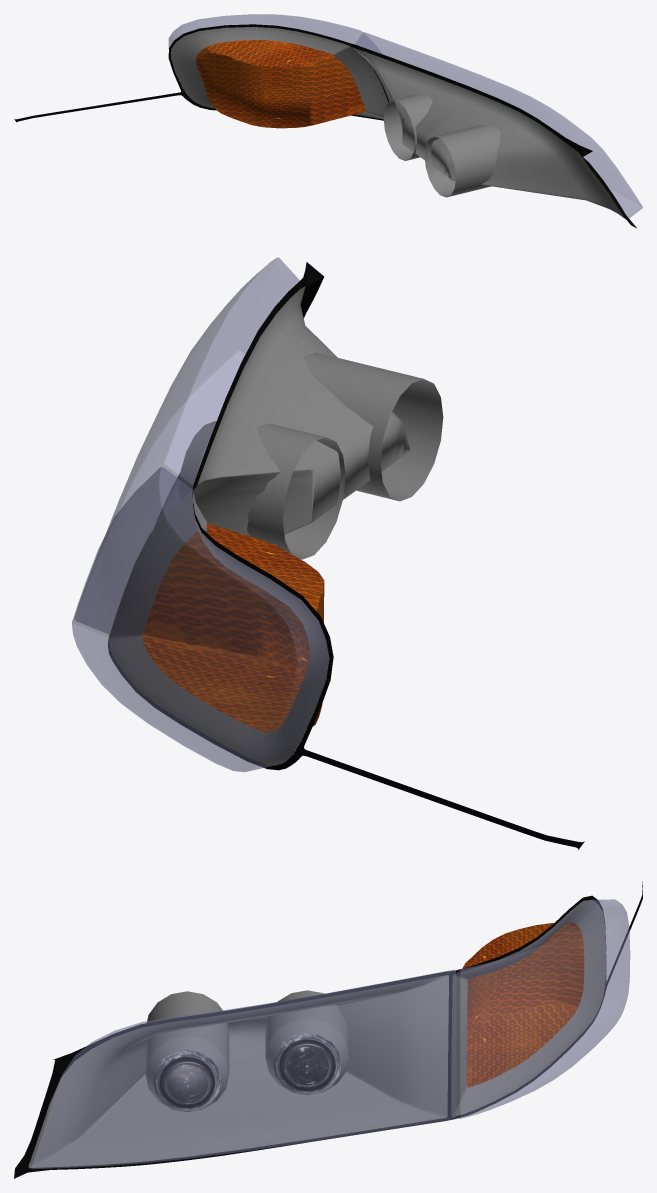
The picture shows the model from 3 angles, top to bottom: view 1: azimuth 30°, elevation 25°; view 2: azimuth 150°, elevation 25°; view 3: azimuth 270°, elevation 25°; orthographic projection. The views are drawn at different scales.
Parts seen in each view (by area): view 1: H124_061B_L_H124_061B_L_4_DaS, H124_061B_L_1_N_H124_061B_L, H124_061B_L_H124_061B_L_7_DTaSI, H124_061B_L_H124_061B_L_7_D, H124_061B_L_H124_061B_L_6_DTaSI; view 2: H124_061B_L_H124_061B_L_4_DaS, H124_061B_L_H124_061B_L_6_DTaSI, H124_061B_L_1_N_H124_061B_L, H124_061B_L_H124_061B_L_7_DTaSI, H124_061B_L_H124_061B_L_7_D; view 3: H124_061B_L_H124_061B_L_4_DaS, H124_061B_L_H124_061B_L_7_DTaSI, H124_061B_L_H124_061B_L_6_DTaSI, H124_061B_L_1_N_H124_061B_L, H124_061B_L_H124_061B_L_7_D, H124_061B_L_H124_061B_L_3_N, H124_061B_L_H124_061B_L_2_N.
Part boxes in pixels (x1=…): H124_061B_L_H124_061B_L_4_DaS: x1=171, y1=27, x2=623, y2=216; H124_061B_L_1_N_H124_061B_L: x1=196, y1=40, x2=365, y2=128; H124_061B_L_H124_061B_L_7_DTaSI: x1=355, y1=32, x2=642, y2=217; H124_061B_L_H124_061B_L_7_D: x1=14, y1=24, x2=636, y2=228; H124_061B_L_H124_061B_L_6_DTaSI: x1=168, y1=14, x2=382, y2=53; H124_061B_L_H124_061B_L_4_DaS: x1=108, y1=286, x2=443, y2=765; H124_061B_L_H124_061B_L_6_DTaSI: x1=72, y1=467, x2=328, y2=772; H124_061B_L_1_N_H124_061B_L: x1=142, y1=523, x2=324, y2=731; H124_061B_L_H124_061B_L_7_DTaSI: x1=75, y1=257, x2=299, y2=633; H124_061B_L_H124_061B_L_7_D: x1=108, y1=262, x2=584, y2=850; H124_061B_L_H124_061B_L_4_DaS: x1=28, y1=900, x2=605, y2=1167; H124_061B_L_H124_061B_L_7_DTaSI: x1=29, y1=969, x2=455, y2=1169; H124_061B_L_H124_061B_L_6_DTaSI: x1=454, y1=899, x2=630, y2=1118; H124_061B_L_1_N_H124_061B_L: x1=462, y1=922, x2=584, y2=1087; H124_061B_L_H124_061B_L_7_D: x1=14, y1=881, x2=642, y2=1178; H124_061B_L_H124_061B_L_3_N: x1=153, y1=1050, x2=221, y2=1112; H124_061B_L_H124_061B_L_2_N: x1=273, y1=1033, x2=341, y2=1095.
Bounding box in the file's own units: 62.23 × 15.4 × 63.11.
